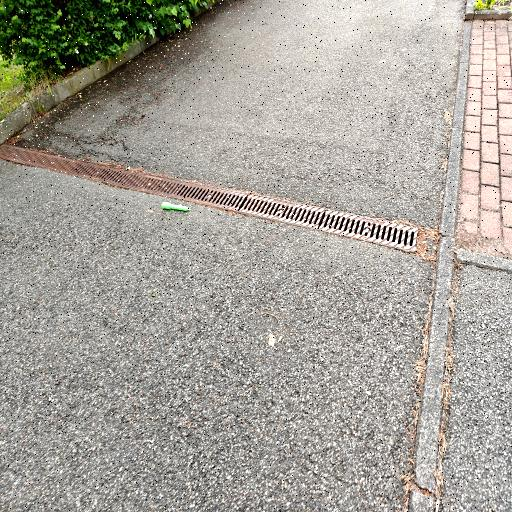Probe-Detection: (162, 202, 190, 211)
